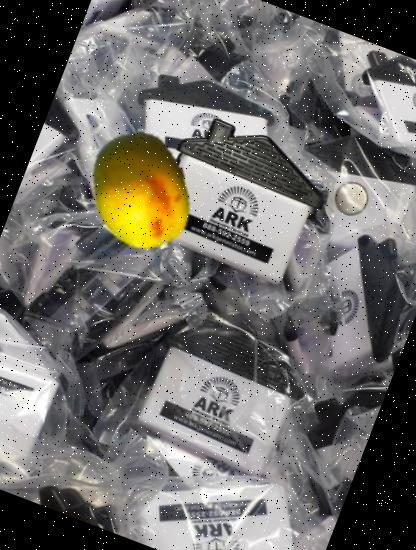Pomelo: (61, 111, 220, 270)
